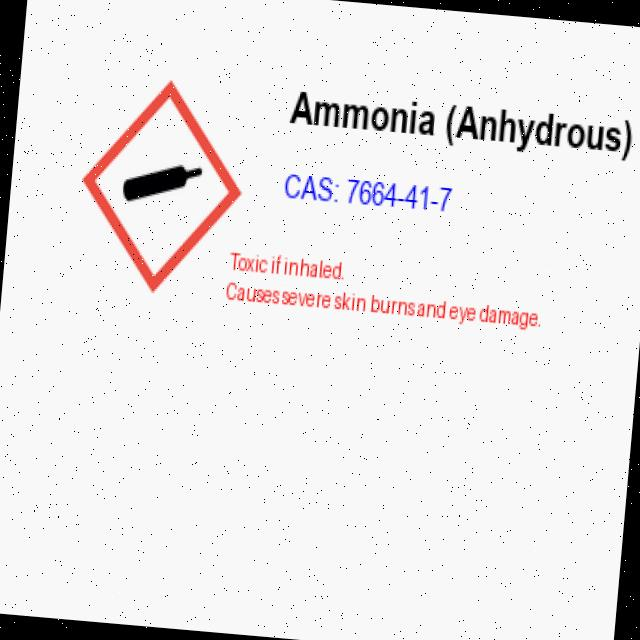cas number: (277, 167, 463, 260)
chemical name: (280, 78, 640, 169)
compressed gas: (80, 80, 242, 296)
warning text: (221, 242, 560, 365)
